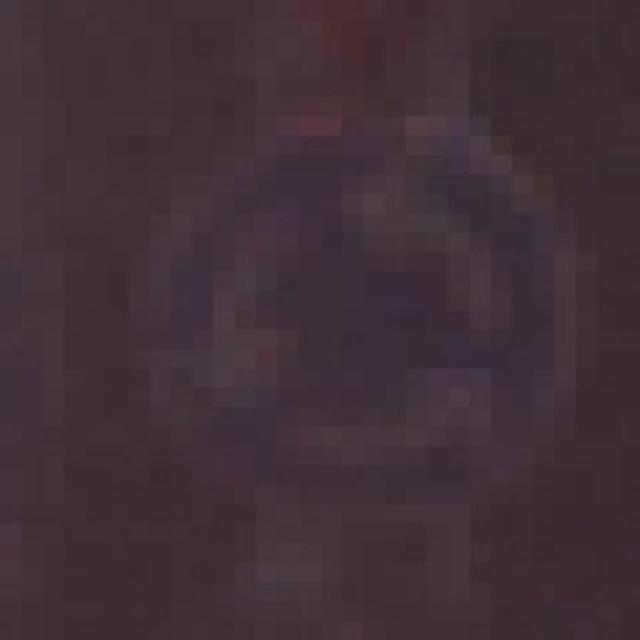Round-About: (86, 78, 620, 562)
